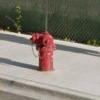a fire hydrant: (32, 30, 56, 72)
